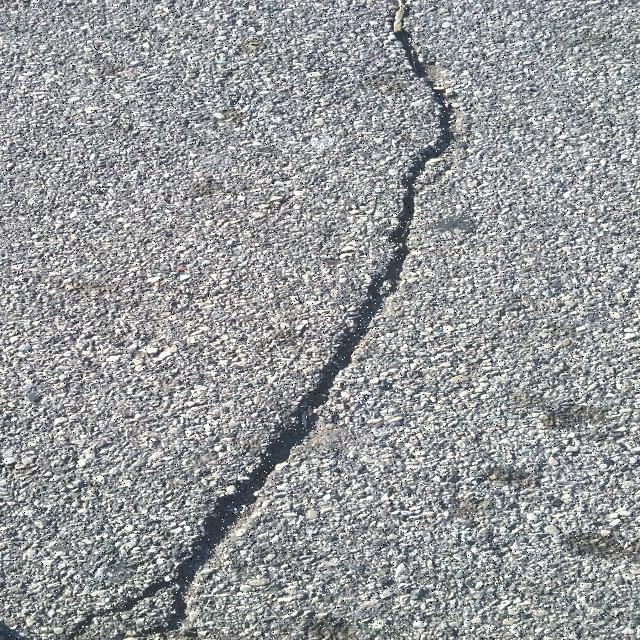Crack: (65, 0, 461, 640)
